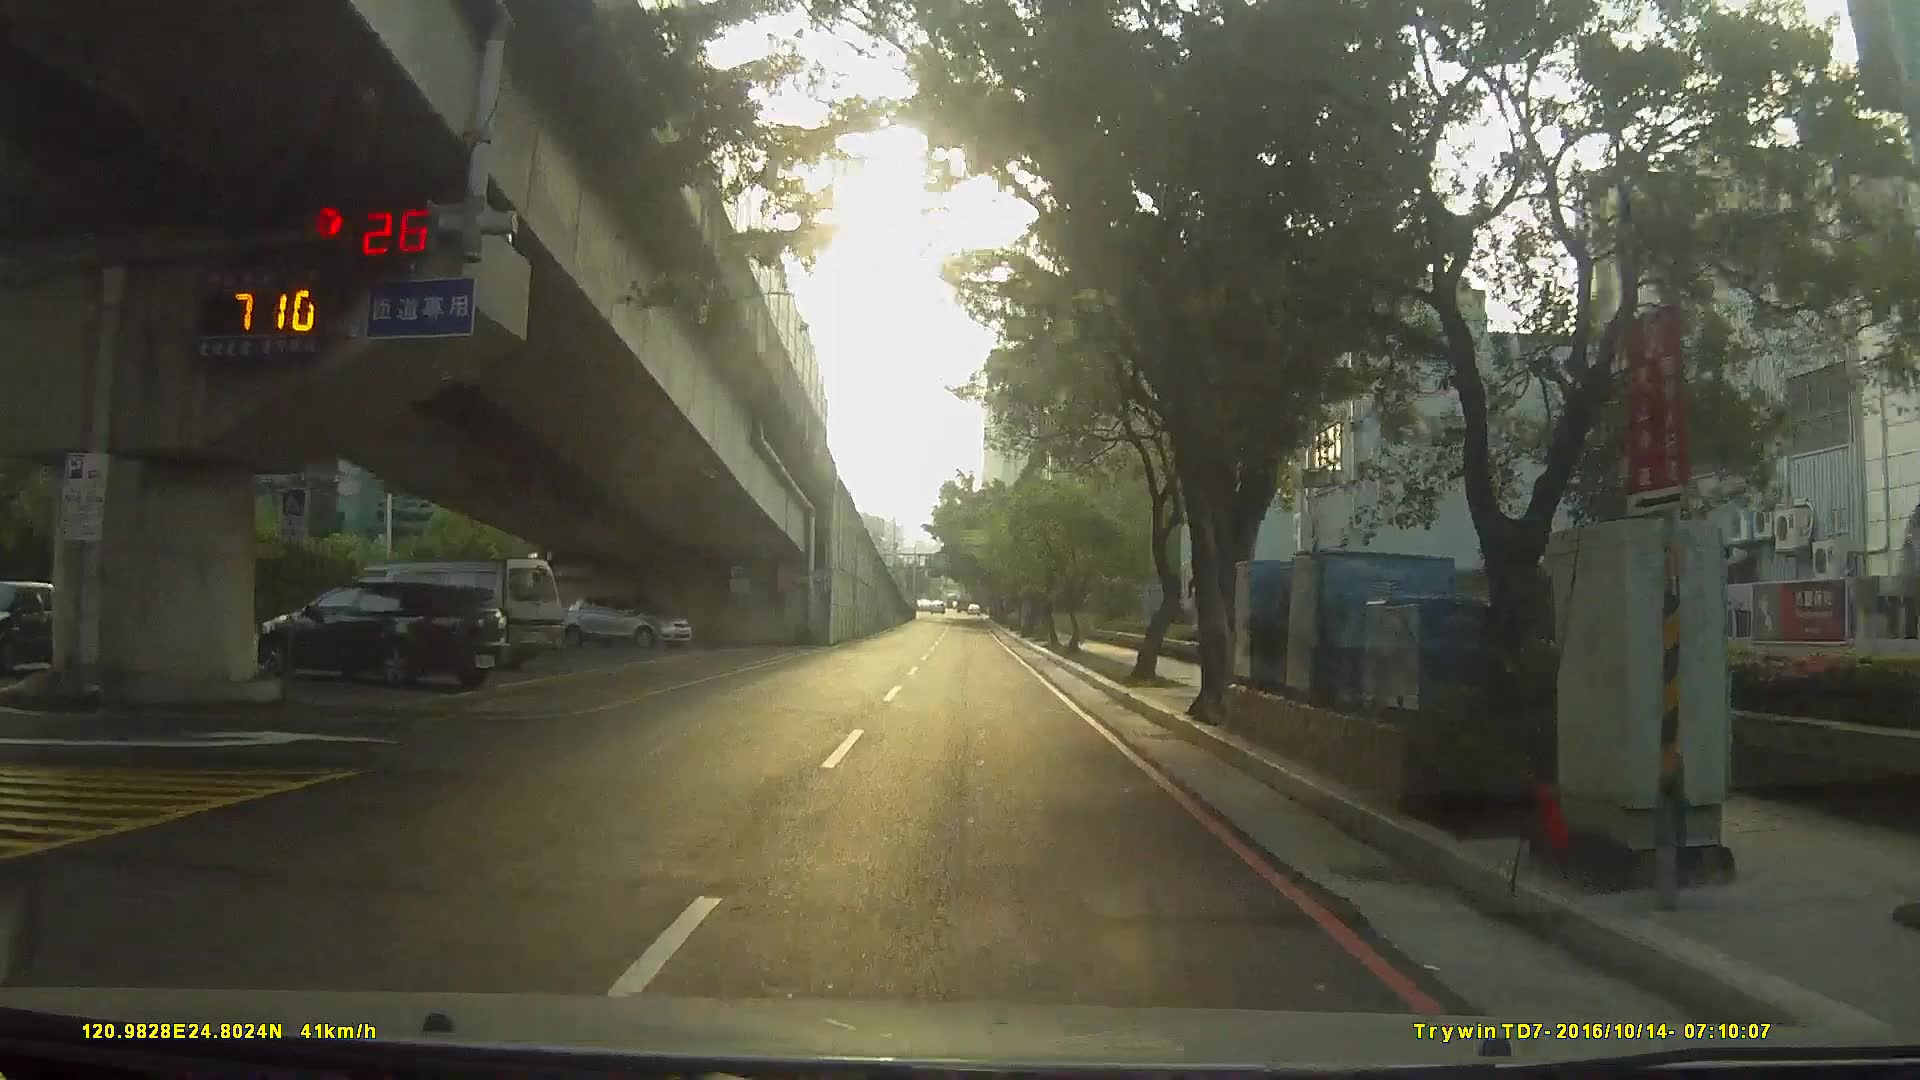vehicle: (320, 551, 568, 679), (240, 578, 510, 694), (3, 579, 88, 676), (558, 589, 691, 649)
